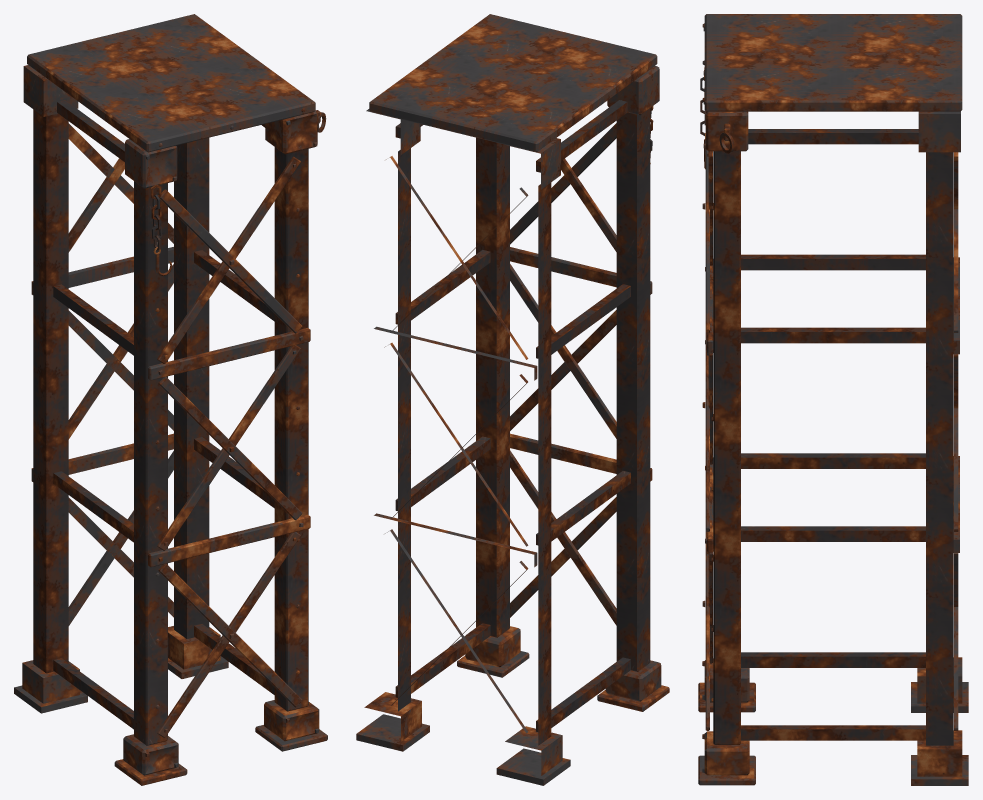
The model's file is Support_L.glb.
The picture shows the model from 3 angles, left to right: view 1: azimuth 30°, elevation 25°; view 2: azimuth 150°, elevation 25°; view 3: azimuth 270°, elevation 25°; orthographic projection. The views are drawn at different scales.
Parts seen in each view (by area): view 1: Support_L; view 2: Support_L; view 3: Support_L.
Boxes of the visible parts, <box> form: Support_L: <box>14,14,327,785</box>; Support_L: <box>356,14,669,785</box>; Support_L: <box>698,14,968,785</box>.
Size of the model in its own units: 1.97 by 6 by 2.16.
Materials: 2 (2 with a texture image).
